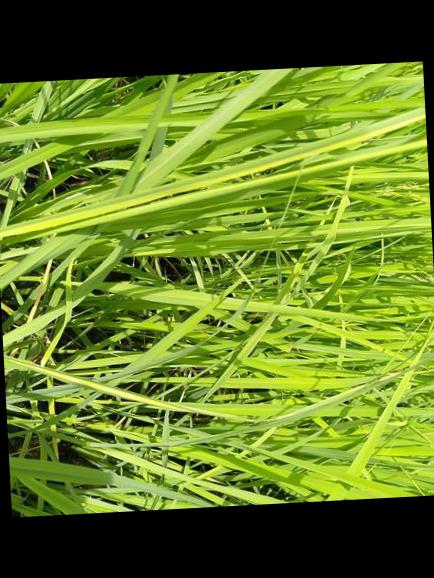Leaf Blight: (26, 259, 50, 323), (42, 160, 51, 180), (51, 187, 55, 199)
